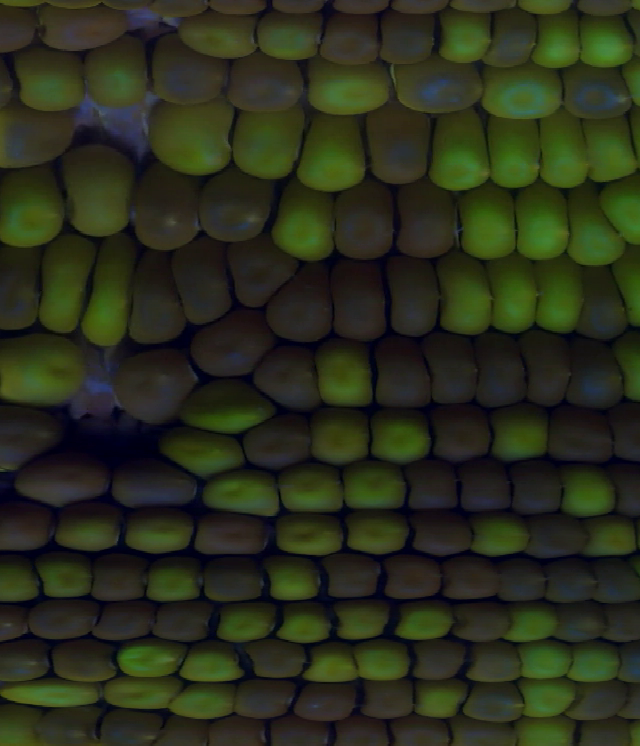fluorescent: (137, 98, 226, 171), (0, 172, 70, 253), (62, 145, 124, 236), (295, 110, 362, 188), (37, 237, 88, 339), (4, 336, 88, 395), (268, 181, 330, 260), (10, 46, 85, 110), (563, 188, 623, 268), (175, 389, 265, 442), (437, 260, 497, 339), (226, 108, 295, 176), (430, 110, 488, 189), (488, 114, 547, 191), (456, 189, 515, 260), (313, 345, 368, 416), (515, 189, 568, 260), (540, 111, 588, 188), (488, 63, 555, 118), (588, 113, 637, 188), (250, 17, 323, 66), (310, 71, 384, 118), (534, 256, 579, 333), (494, 265, 539, 339), (275, 462, 342, 510), (344, 463, 408, 513), (118, 510, 188, 555), (466, 507, 530, 556), (166, 434, 237, 478), (91, 52, 146, 107), (439, 8, 495, 62), (50, 514, 123, 555), (362, 417, 423, 466), (573, 14, 634, 63), (94, 236, 121, 346), (560, 462, 615, 514), (276, 511, 347, 550), (511, 640, 581, 678), (207, 479, 278, 516), (179, 16, 250, 52), (347, 513, 415, 550), (386, 604, 450, 643), (176, 649, 239, 688), (310, 420, 362, 466), (537, 11, 576, 72), (489, 407, 539, 453), (117, 639, 170, 682), (511, 679, 578, 713), (7, 681, 91, 708), (305, 643, 359, 685), (278, 601, 333, 640), (608, 179, 640, 246), (102, 672, 165, 705), (170, 687, 237, 718), (585, 513, 634, 555), (263, 555, 311, 595), (359, 645, 407, 685), (520, 713, 578, 746), (333, 604, 386, 640), (147, 560, 197, 598), (40, 559, 85, 601), (507, 601, 553, 640), (0, 559, 40, 601), (413, 684, 462, 717), (572, 642, 614, 678), (217, 608, 272, 633), (0, 705, 31, 746)
nonfluorescent: (127, 169, 198, 249), (269, 258, 334, 343), (215, 59, 313, 113), (334, 175, 394, 260), (394, 182, 457, 260), (18, 459, 113, 510), (118, 350, 185, 420), (365, 116, 427, 188), (198, 169, 266, 233), (155, 49, 234, 104), (570, 330, 627, 405), (184, 236, 233, 323), (386, 255, 442, 331), (195, 313, 262, 375), (398, 62, 484, 110), (136, 256, 185, 340), (0, 108, 79, 160), (334, 258, 385, 337), (36, 7, 130, 49), (376, 339, 427, 414), (430, 336, 479, 414), (263, 345, 323, 408), (0, 404, 55, 471), (234, 236, 288, 302), (553, 405, 614, 462), (555, 65, 623, 116), (453, 456, 514, 511), (318, 14, 382, 66), (527, 330, 570, 405), (0, 247, 40, 327), (113, 458, 189, 500), (584, 265, 626, 337), (252, 420, 313, 469), (201, 513, 272, 555), (484, 331, 526, 402), (405, 459, 457, 514), (201, 563, 269, 605), (30, 597, 101, 637), (324, 552, 384, 598), (465, 675, 528, 718), (526, 518, 592, 559), (439, 555, 501, 598), (46, 639, 114, 678), (382, 16, 436, 65), (0, 505, 52, 555), (101, 705, 166, 743), (234, 678, 302, 714), (246, 637, 305, 678), (514, 462, 563, 511), (431, 408, 482, 455), (299, 679, 363, 716), (384, 556, 440, 598), (544, 558, 597, 602), (36, 710, 99, 746), (457, 646, 520, 681), (414, 510, 470, 549), (495, 7, 534, 63), (159, 601, 210, 643), (101, 600, 156, 637), (566, 682, 624, 717), (460, 602, 514, 639), (0, 639, 43, 685), (453, 717, 521, 746), (360, 684, 418, 717), (97, 558, 140, 602), (328, 716, 391, 746), (555, 604, 608, 639), (408, 642, 462, 676), (597, 560, 640, 602), (501, 559, 547, 598), (211, 714, 267, 746), (269, 716, 327, 746), (605, 465, 640, 514), (0, 4, 40, 45), (575, 720, 631, 746), (162, 713, 206, 746), (0, 597, 30, 645), (391, 718, 453, 740), (610, 605, 640, 642)
